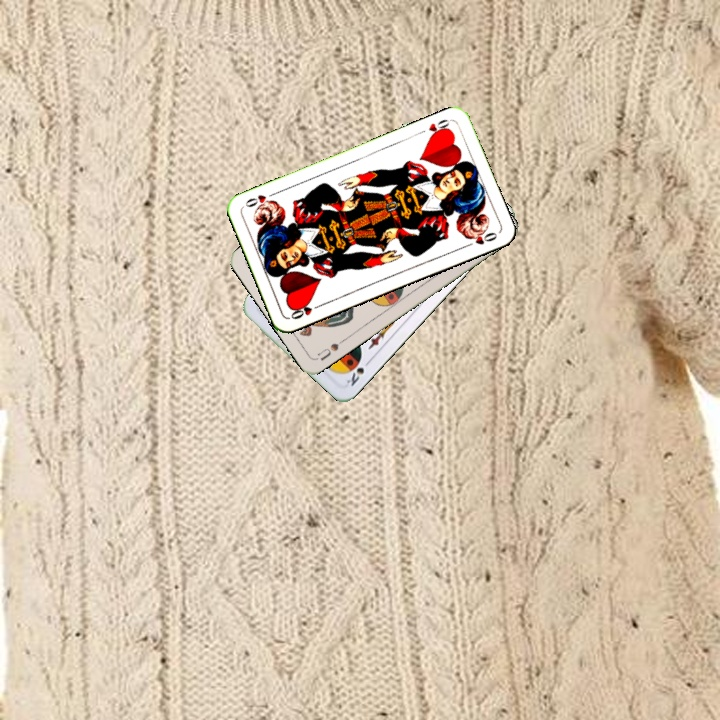HO: (287, 299, 325, 322), (424, 115, 454, 140)
SK: (342, 355, 374, 389)
SU: (313, 334, 349, 363)
